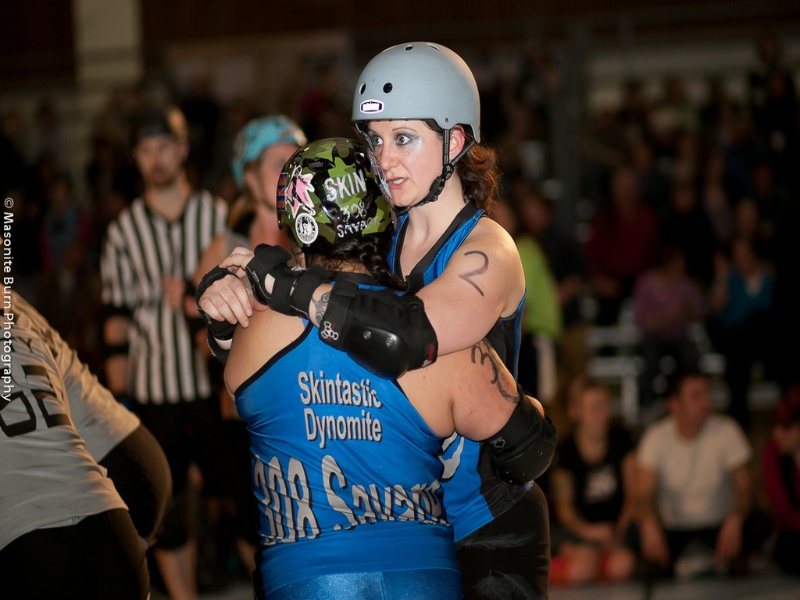Baret: (348, 41, 482, 142)
